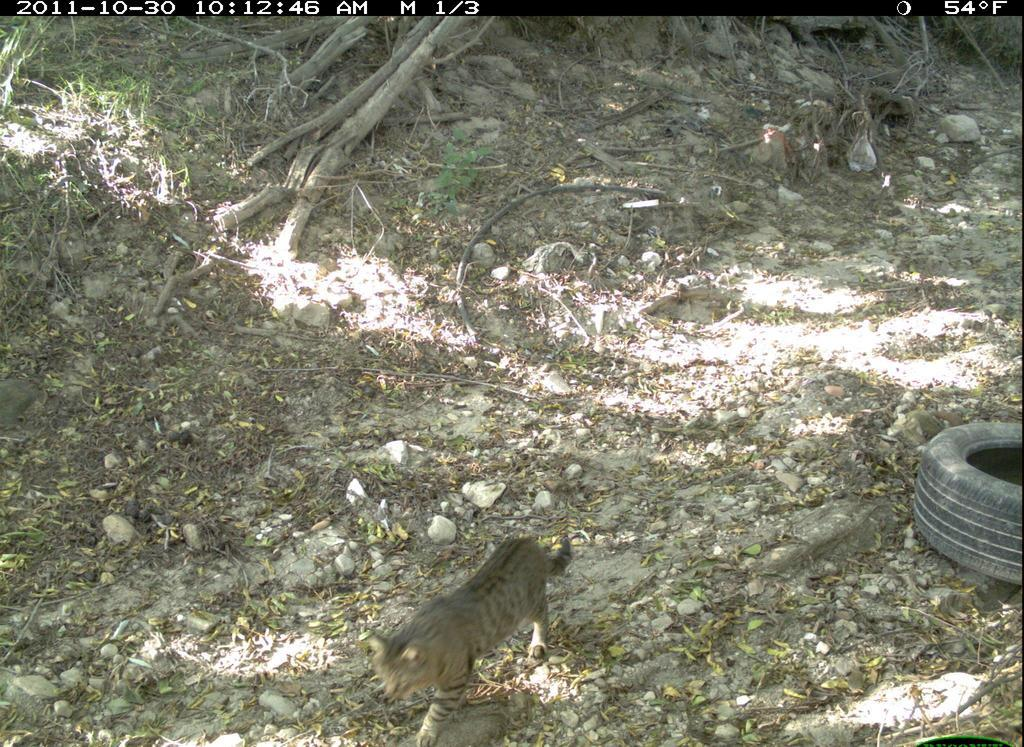cat: (353, 528, 598, 747)
